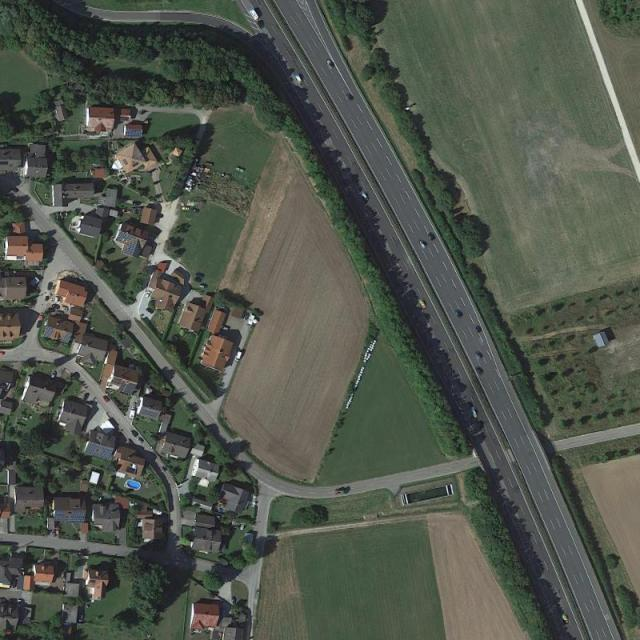vehicle: (250, 9, 263, 26), (418, 298, 426, 310), (234, 350, 242, 362), (294, 74, 302, 85), (471, 406, 478, 418), (562, 614, 569, 624), (362, 192, 369, 202), (335, 488, 346, 494), (455, 310, 463, 318), (346, 93, 354, 101), (327, 59, 334, 68), (428, 233, 435, 241), (419, 241, 426, 249), (104, 395, 111, 402), (51, 371, 57, 379), (131, 430, 139, 436), (476, 325, 482, 333), (137, 437, 144, 443), (476, 352, 483, 358), (477, 367, 483, 374), (162, 466, 167, 471), (183, 207, 190, 210), (1, 351, 5, 354)
